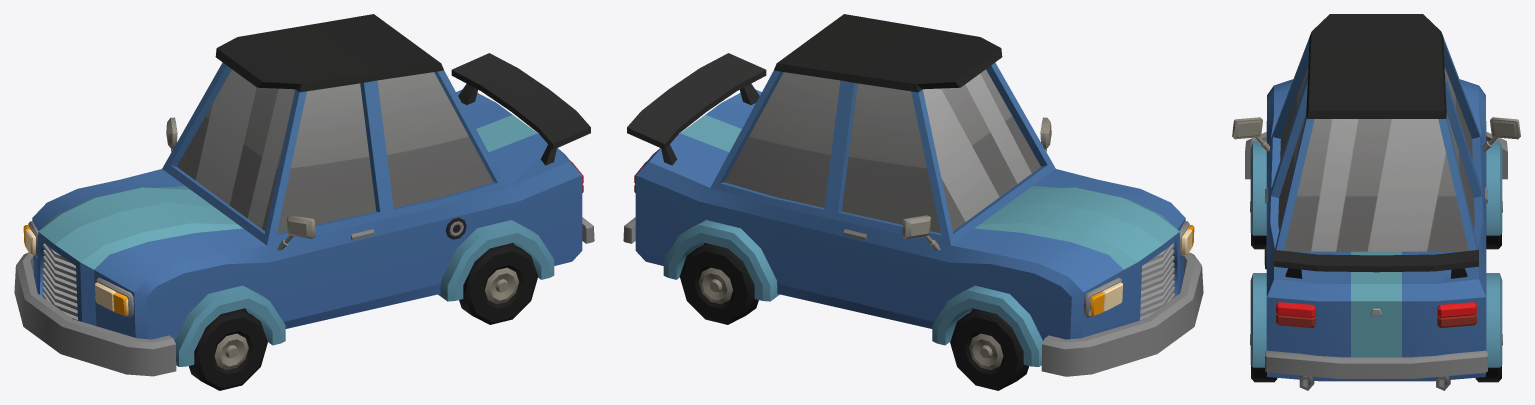
Rendered from Car_2_N.gltf.
The picture shows the model from 3 angles, left to right: view 1: azimuth 30°, elevation 25°; view 2: azimuth 150°, elevation 25°; view 3: azimuth 270°, elevation 25°; orthographic projection.
Visible parts, largest first — view 1: Car_2_N, RL, FL; view 2: Car_2_N, RR, FR; view 3: Car_2_N, RL, RR.
Boxes of the visible parts, x1,y1,x2,y2 form: Car_2_N: [14, 14, 594, 376]; RL: [459, 243, 538, 324]; FL: [188, 309, 267, 390]; Car_2_N: [623, 14, 1203, 376]; RR: [679, 243, 758, 324]; FR: [950, 309, 1029, 390]; Car_2_N: [1232, 14, 1520, 390]; RL: [1250, 334, 1277, 382]; RR: [1475, 334, 1502, 382].
Size of the model in its own units: 3.64 by 1.8 by 1.78.
4 materials, 4 textured.
